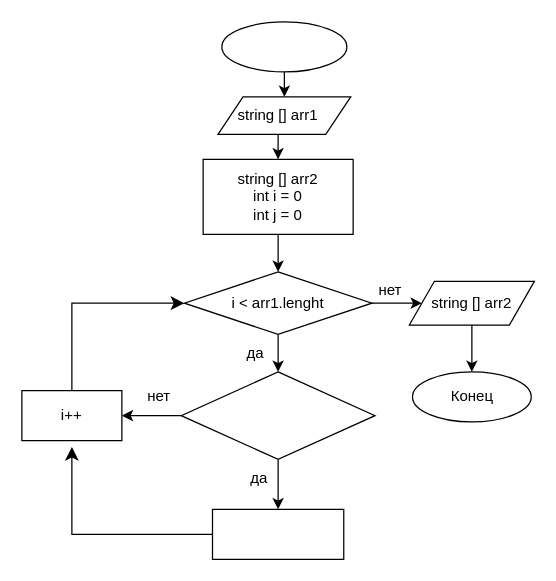
This 556x581 diagram has some shape labels left out. The centre of each missing label's shape, as x and y in pixels:
arr1[i].Lenght <= 3: pixel 277 415
arr2[j] = arr1[i] j++: pixel 277 533
Начало: pixel 284 46
